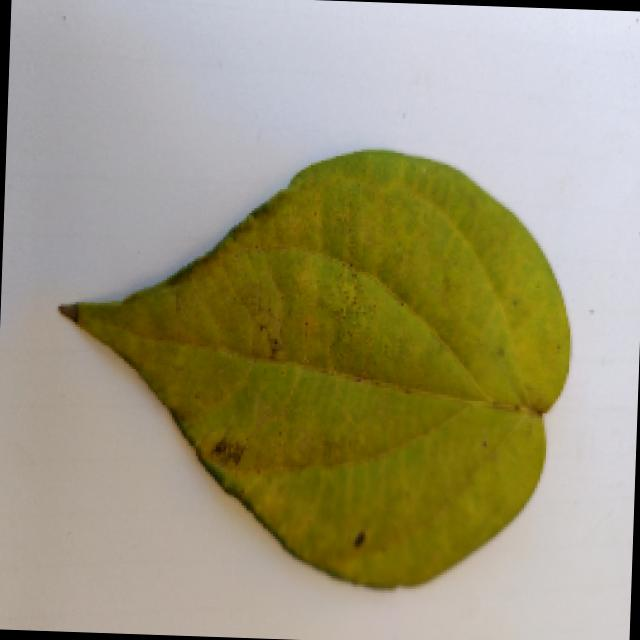slow-decline: (43, 138, 596, 602)
